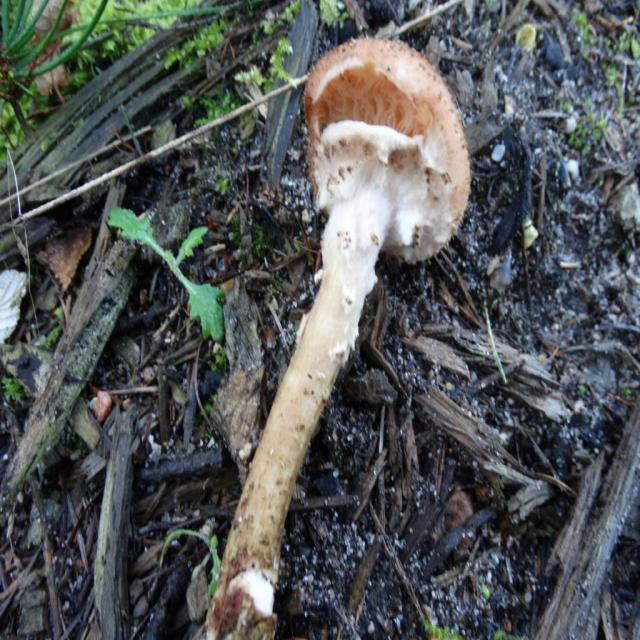Armillaria mellea: (203, 39, 469, 633)
